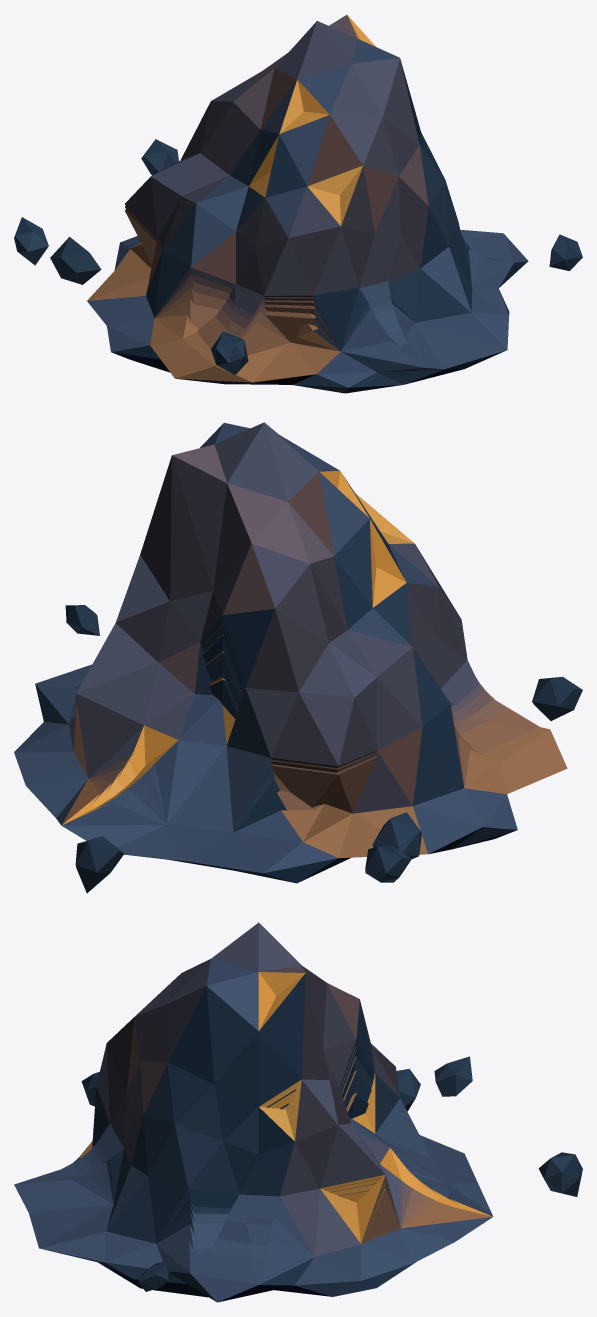
File: Crashed_Meteor.glb
3 views of the same model, one above another, from view 1: azimuth 30°, elevation 25°; view 2: azimuth 150°, elevation 25°; view 3: azimuth 270°, elevation 25° (orthographic). The views are drawn at different scales.
Parts seen in each view (by area): view 1: Meteor_Tier_1, Meteor_Tier_6, Meteor_Tier_5, Meteor_Tier_4, Meteor_Tier_3, Meteor_Tier_2; view 2: Meteor_Tier_1, Meteor_Tier_6, Meteor_Tier_3, Meteor_Tier_5, Meteor_Tier_4, Meteor_Tier_2; view 3: Meteor_Tier_1, Meteor_Tier_6, Meteor_Tier_4, Meteor_Tier_3, Meteor_Tier_5, Meteor_Tier_2.
Part boxes in pixels (x1=…): Meteor_Tier_1: x1=125, y1=15, x2=472, y2=350; Meteor_Tier_6: x1=87, y1=230, x2=528, y2=393; Meteor_Tier_5: x1=153, y1=230, x2=582, y2=355; Meteor_Tier_4: x1=14, y1=217, x2=472, y2=350; Meteor_Tier_3: x1=125, y1=139, x2=471, y2=350; Meteor_Tier_2: x1=50, y1=206, x2=413, y2=349; Meteor_Tier_1: x1=68, y1=422, x2=478, y2=832; Meteor_Tier_6: x1=14, y1=664, x2=582, y2=883; Meteor_Tier_3: x1=70, y1=635, x2=492, y2=893; Meteor_Tier_5: x1=65, y1=605, x2=539, y2=832; Meteor_Tier_4: x1=70, y1=651, x2=504, y2=882; Meteor_Tier_2: x1=71, y1=623, x2=483, y2=858; Meteor_Tier_1: x1=92, y1=922, x2=447, y2=1257; Meteor_Tier_6: x1=14, y1=1072, x2=493, y2=1302; Meteor_Tier_4: x1=72, y1=1056, x2=472, y2=1256; Meteor_Tier_3: x1=83, y1=1056, x2=582, y2=1256; Meteor_Tier_5: x1=53, y1=1092, x2=459, y2=1291; Meteor_Tier_2: x1=92, y1=1046, x2=445, y2=1256.
Bounding box in the file's own units: 3.03 × 2.14 × 3.44.
